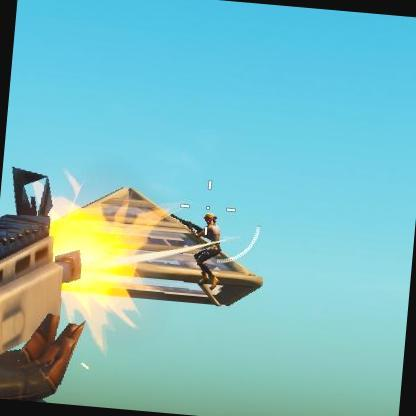person: (183, 210, 225, 294)
